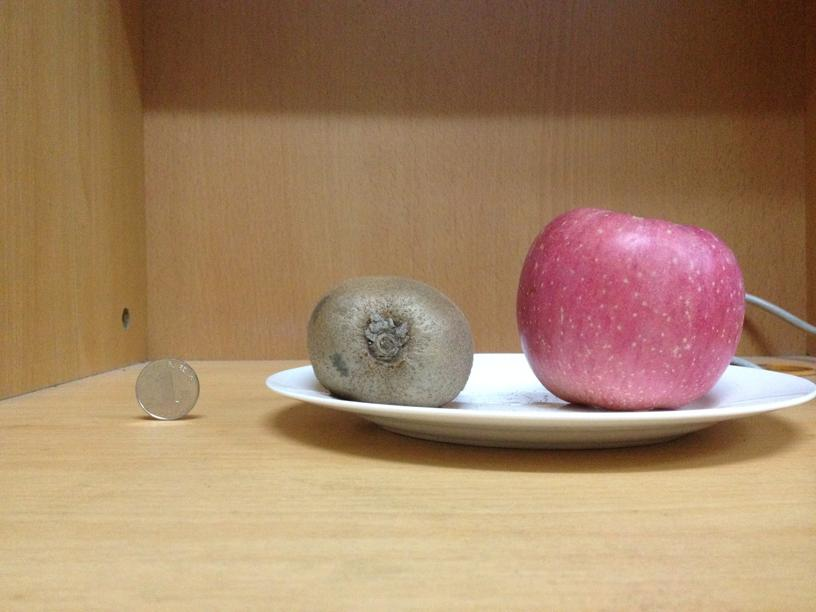apple: (515, 209, 747, 408)
coin: (135, 357, 199, 419)
qiwi: (309, 278, 473, 405)
